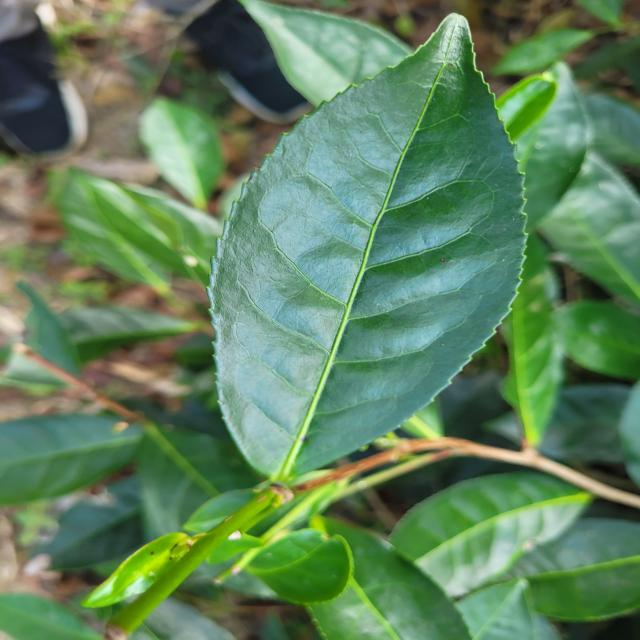Category D(7+ days, Not for Tea): (202, 10, 534, 494)
